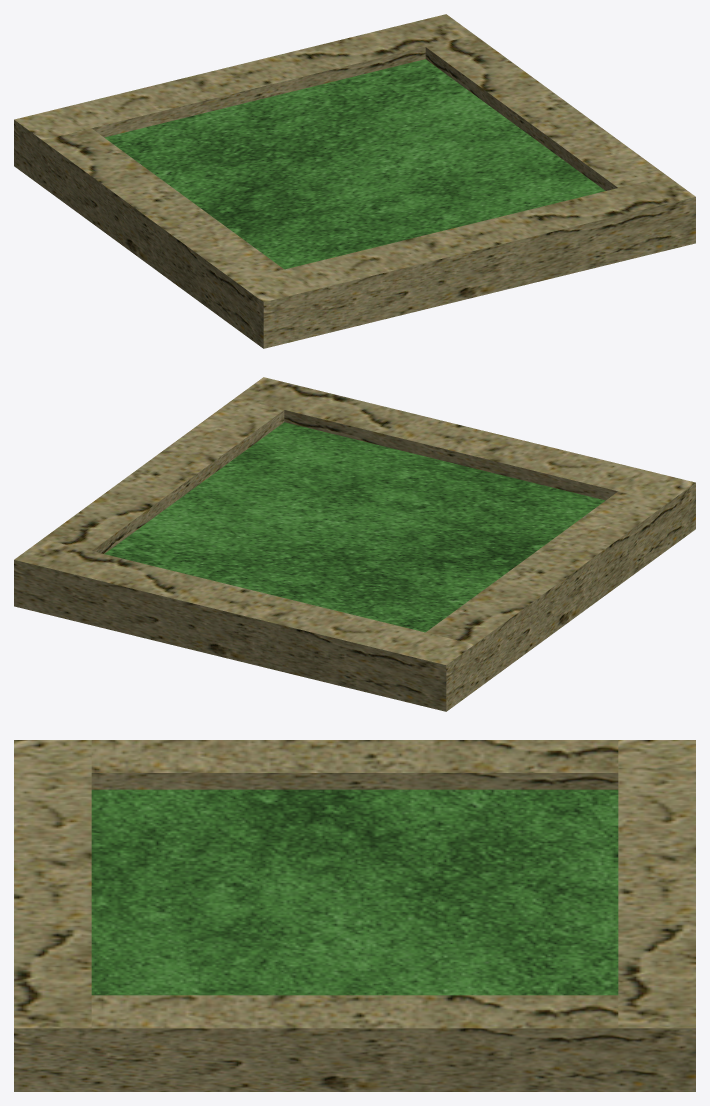
The model's file is tree base.FBX.
3 views of the same model, one above another, from view 1: azimuth 30°, elevation 25°; view 2: azimuth 150°, elevation 25°; view 3: azimuth 270°, elevation 25° (orthographic). The views are drawn at different scales.
Parts seen in each view (by area): view 1: Box001; view 2: Box001; view 3: Box001.
Part boxes in pixels (x1,y1,x2,y2): Box001: [14, 14, 695, 348]; Box001: [14, 377, 695, 711]; Box001: [14, 740, 695, 1091].
Size of the model in its own units: 15 by 1.54 by 15.
